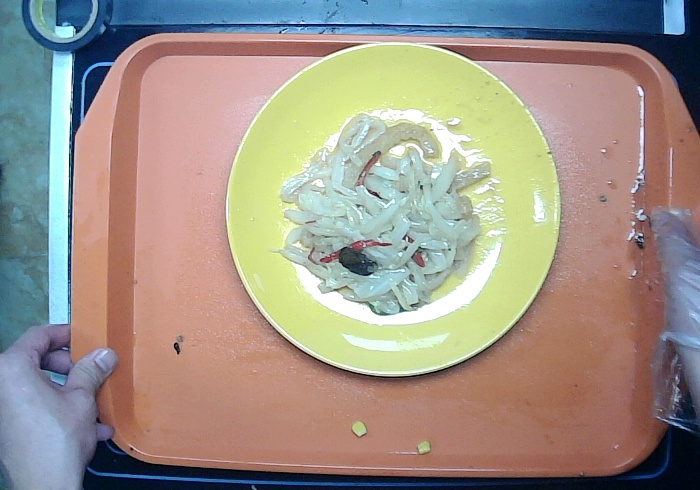HZYJPL-Huang_Se_Yuan_Pan: (223, 40, 564, 379)
